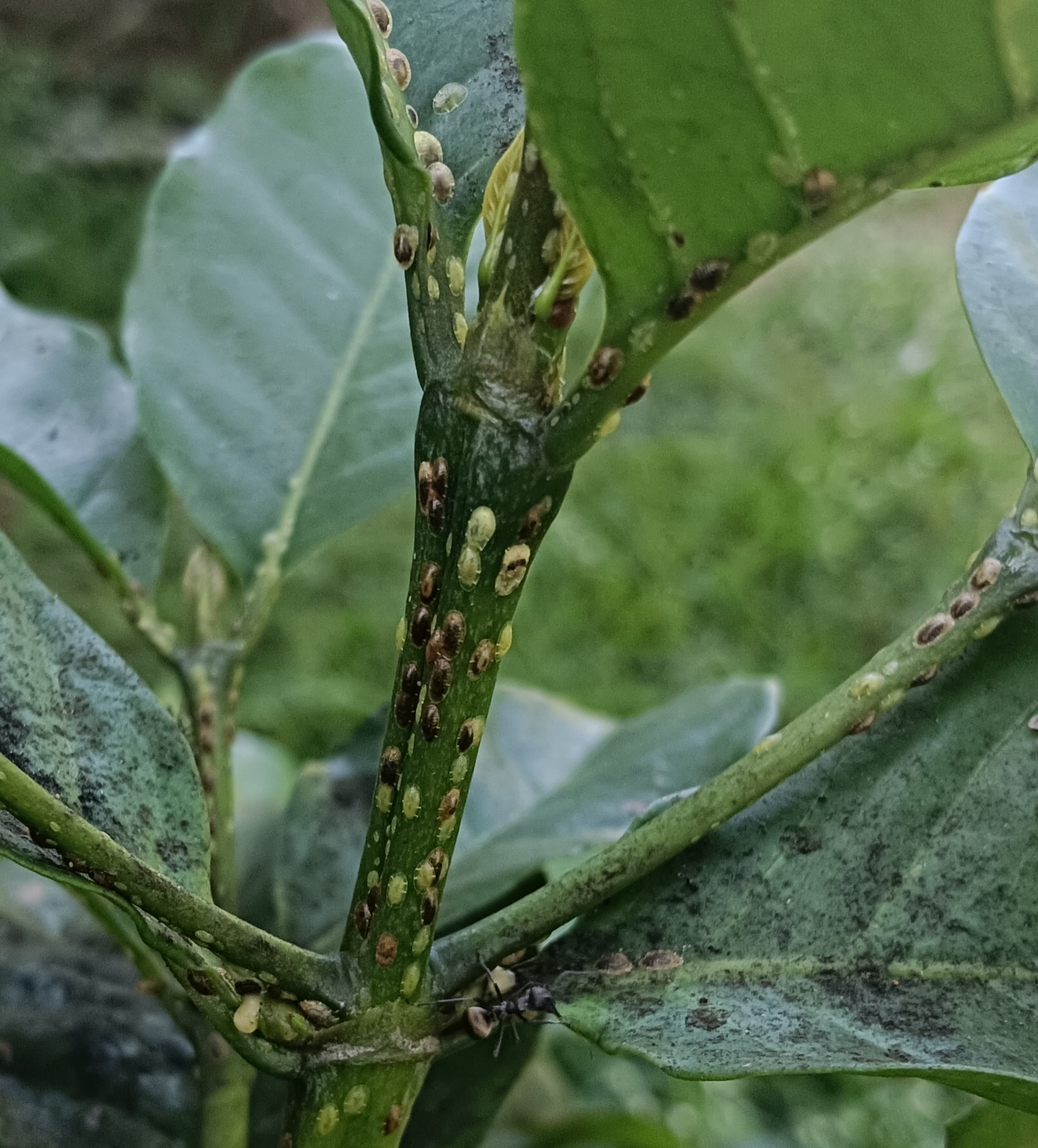Scale_Insect: (495, 544, 531, 597), (689, 262, 732, 298), (425, 161, 457, 207), (441, 609, 467, 664), (587, 351, 623, 390), (465, 506, 496, 551), (393, 222, 419, 270), (915, 616, 952, 649), (458, 544, 482, 594), (432, 82, 468, 115), (417, 561, 442, 607), (467, 639, 495, 680), (413, 131, 444, 168), (386, 48, 411, 93), (969, 558, 1001, 592), (429, 658, 453, 703), (411, 604, 433, 651), (379, 744, 401, 787), (394, 691, 419, 728), (437, 788, 461, 824), (413, 858, 436, 895), (418, 461, 433, 517), (399, 960, 421, 998), (445, 254, 464, 298), (494, 621, 513, 664), (428, 492, 446, 537), (666, 294, 694, 322), (402, 783, 421, 824), (353, 900, 373, 938), (387, 873, 408, 908), (400, 662, 421, 697), (595, 953, 633, 972), (422, 704, 440, 744), (345, 1085, 369, 1115), (950, 592, 978, 617), (374, 782, 395, 815), (434, 457, 449, 500), (452, 313, 469, 350), (457, 717, 474, 754), (412, 925, 431, 958), (450, 754, 469, 786), (642, 952, 679, 967), (317, 1106, 336, 1134), (405, 104, 420, 131)
